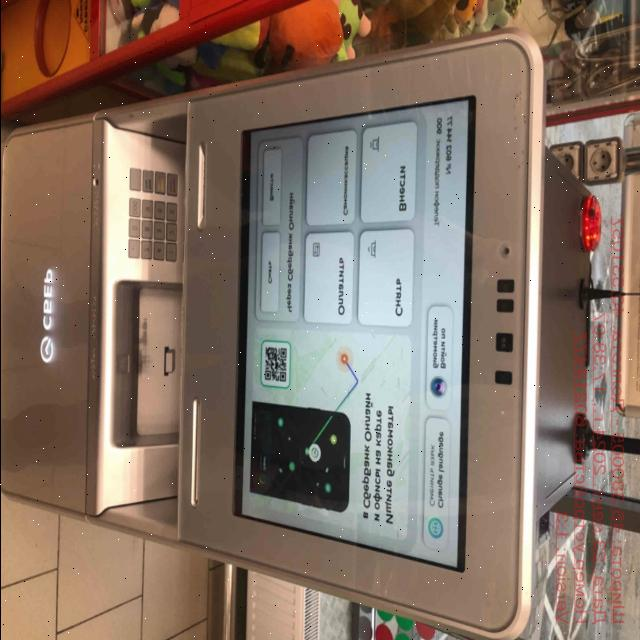bank: (0, 28, 590, 640)
